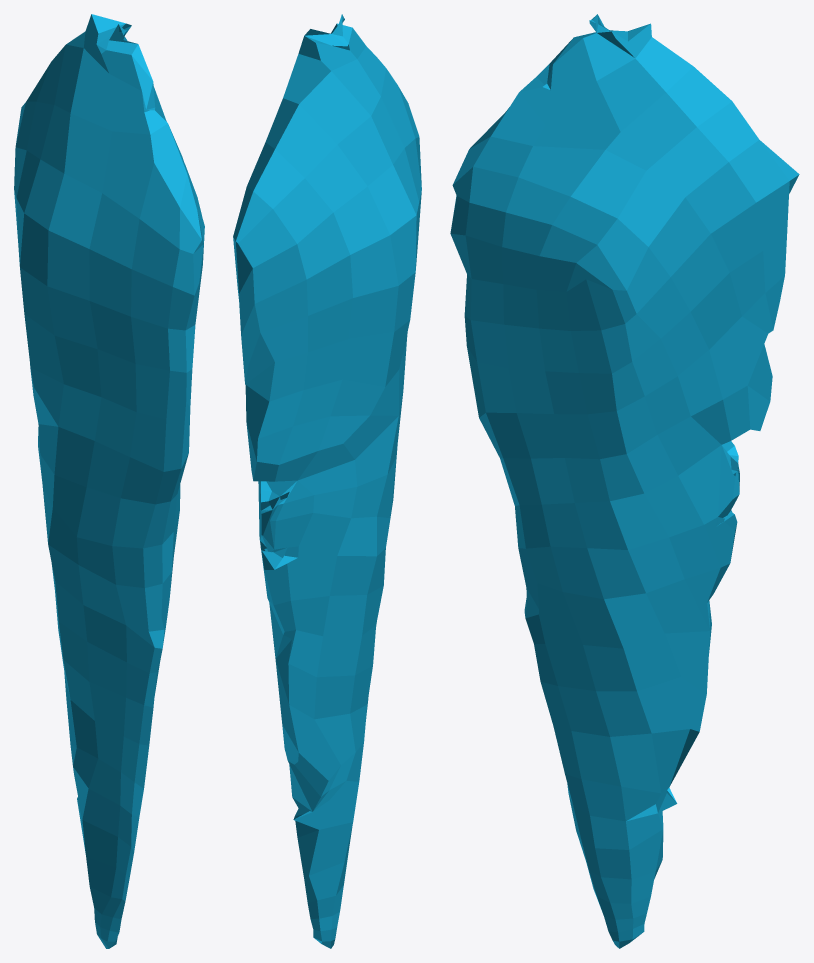
The model's file is Icicle.glb.
The picture shows the model from 3 angles, left to right: view 1: azimuth 30°, elevation 25°; view 2: azimuth 150°, elevation 25°; view 3: azimuth 270°, elevation 25°; orthographic projection.
Visible parts, largest first — view 1: Icicle; view 2: Icicle; view 3: Icicle.
Boxes of the visible parts, x1=… form: Icicle: x1=14, y1=14, x2=204, y2=948; Icicle: x1=233, y1=14, x2=421, y2=948; Icicle: x1=450, y1=14, x2=799, y2=948.
Bounding box in the file's own units: 0.3341 × 1.78 × 0.6026.
1 material, 1 textured.
